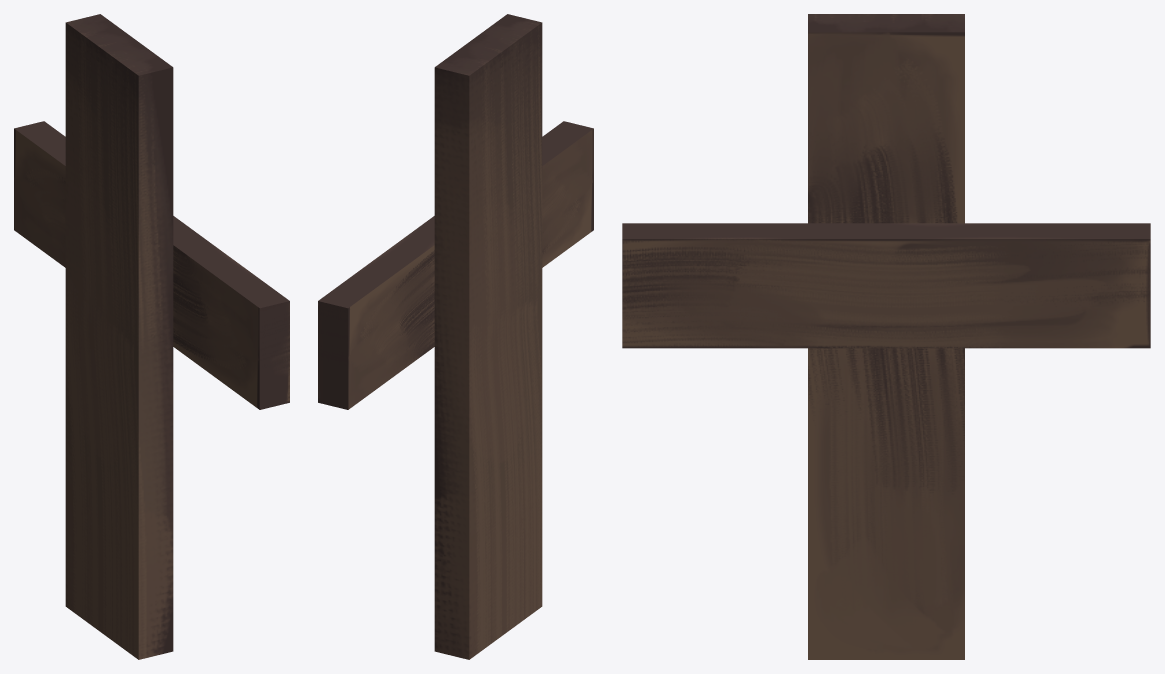
The model's file is Grave_shipwreck01 1.fbx.
3 renders of one model, left to right at view 1: azimuth 30°, elevation 25°; view 2: azimuth 150°, elevation 25°; view 3: azimuth 270°, elevation 25°, orthographic. The views are drawn at different scales.
Parts seen in each view (by area): view 1: Grave_shipwreck01; view 2: Grave_shipwreck01; view 3: Grave_shipwreck01.
Part boxes in pixels (x1,y1,x2,y2): Grave_shipwreck01: (14,14,289,659); Grave_shipwreck01: (318,14,593,659); Grave_shipwreck01: (622,14,1150,659).
Bounding box in the file's own units: 0.0483 × 0.4157 × 0.317.
Materials: 1 (1 with a texture image).
